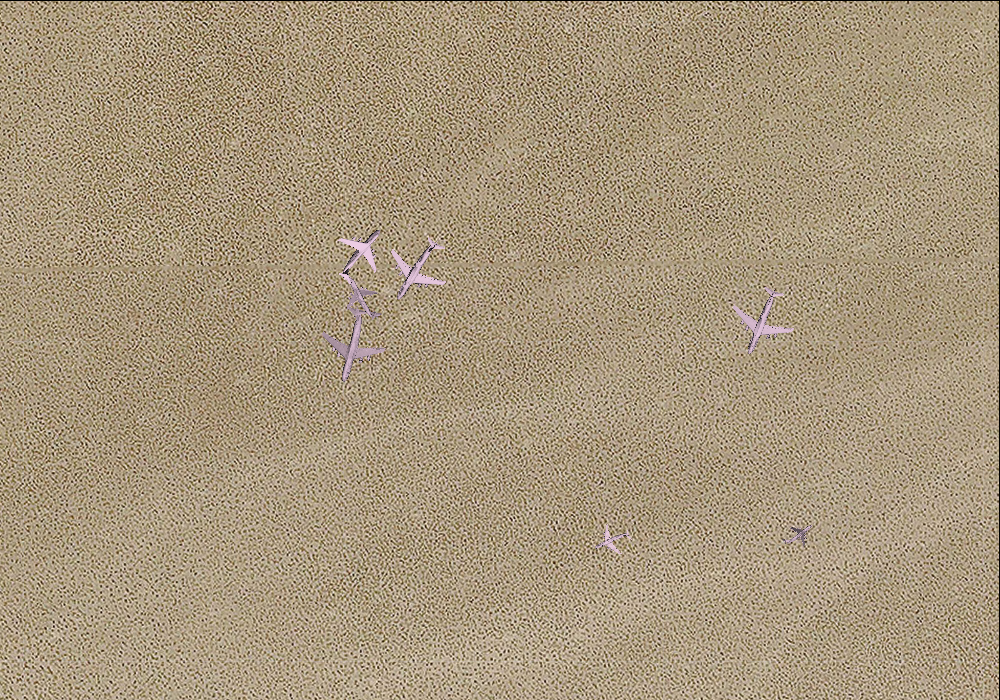plane: (370, 222, 464, 317), (306, 298, 395, 390), (718, 276, 805, 366), (319, 212, 403, 296), (332, 265, 393, 329), (587, 516, 637, 566), (776, 513, 819, 555)
